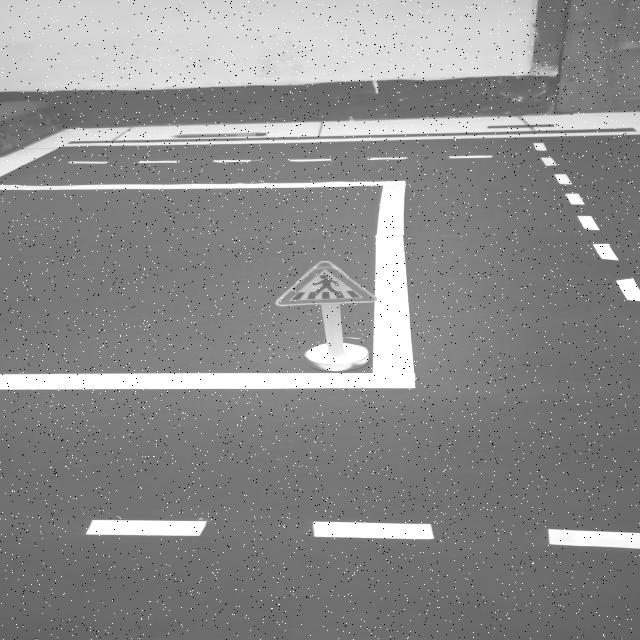Rambu Penyebrangan: (274, 260, 376, 306)
